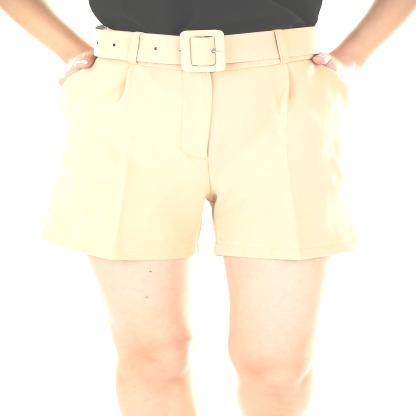jacket: (46, 24, 364, 265)
